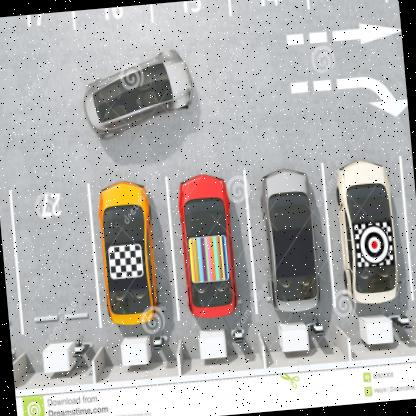Car: (323, 143, 410, 325), (86, 167, 171, 338), (165, 164, 243, 338), (252, 170, 334, 328), (73, 56, 210, 144)
Empty: (15, 169, 102, 346)
